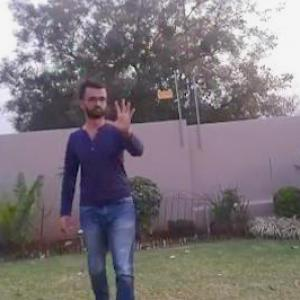follow_hand: (103, 95, 138, 132)
